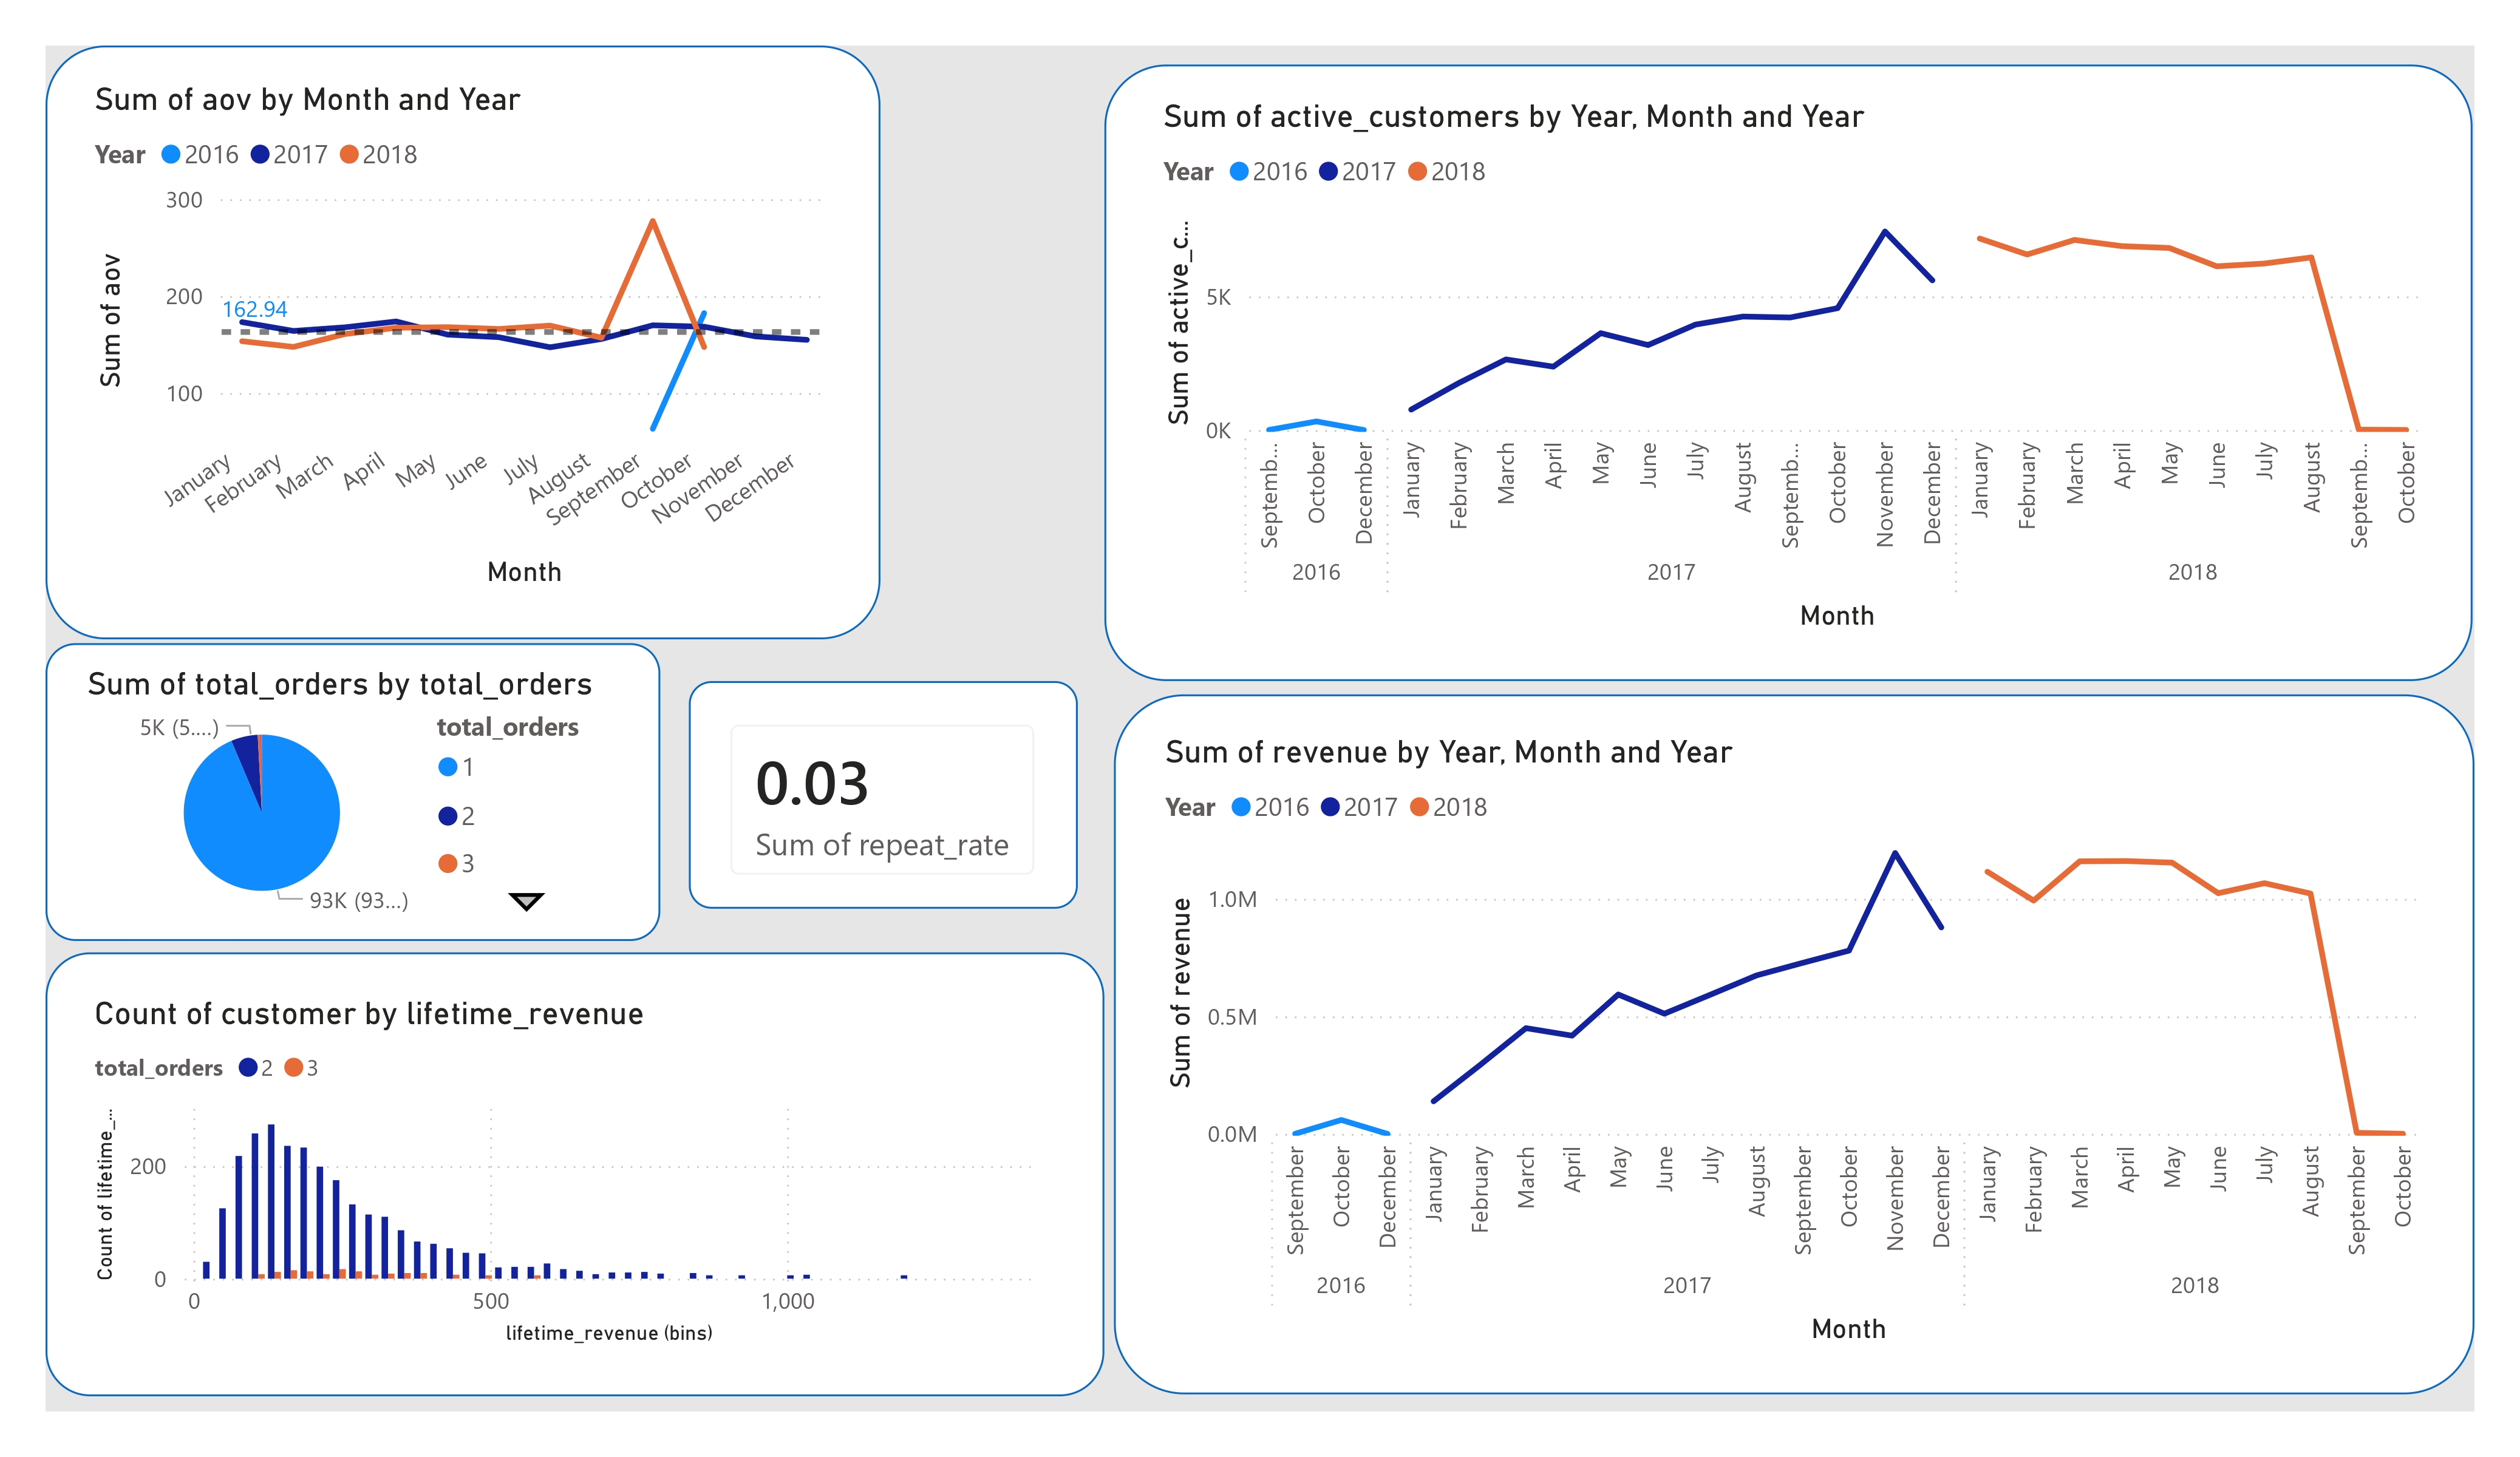

What the dashboard file says about the page in this screenshot:
{"tool":"powerbi","page":{"name":"Executive Overview","canvas":[1280,720],"ordinal":0},"visuals":[{"type":"shape","box":[338.7,335,204.9,120.2],"z":0,"group":"g3"},{"type":"shape","box":[563.2,342.3,716.6,369.3],"z":0,"group":"g1"},{"type":"shape","box":[0,477.9,558.3,234.4],"z":0},{"type":"shape","box":[0,0,440.2,312.9],"z":1000,"group":"g2"},{"type":"shape","box":[-0.4,315.1,324.1,157.1],"z":1000},{"type":"shape","box":[558.3,9.8,720.2,325.2],"z":2000},{"type":"cardVisual","fields":{"Data":["Sum(analytics v_repeat_purhase_rate.repeat_rate)"]},"box":[348.5,346,184.1,103.1],"z":2000,"group":"g3"},{"type":"lineChart","fields":{"Y":["Sum(analytics v_monthly_revenue_rate.revenue)"],"Category":["analytics v_monthly_revenue_rate.order_month.Variation.Date Hierarchy.Year","analytics v_monthly_revenue_rate.order_month.Variation.Date Hierarchy.Month"],"Series":["analytics v_monthly_revenue_rate.order_month.Variation.Date Hierarchy.Year"]},"box":[585,362.8,672.4,326.4],"z":2000,"group":"g1"},{"type":"lineChart","fields":{"Y":["Sum(analytics v_unique_customer_count_per_month.active_customers)"],"Category":["analytics v_unique_customer_count_per_month.order_month.Variation.Date Hierarchy.Year","analytics v_unique_customer_count_per_month.order_month.Variation.Date Hierarchy.Month"],"Series":["analytics v_unique_customer_count_per_month.order_month.Variation.Date Hierarchy.Year"]},"box":[584.1,27,674.9,285.9],"z":3000},{"type":"lineChart","fields":{"Y":["Sum(analytics v_average_order_value.aov)"],"Category":["analytics v_average_order_value.order_month.Variation.Date Hierarchy.Month"],"Series":["analytics v_average_order_value.order_month.Variation.Date Hierarchy.Year"]},"box":[20.7,17.8,396.1,271.7],"z":4000,"group":"g2"},{"type":"pieChart","fields":{"Category":["analytics v_customer_lifetime_value.total_orders"],"Y":["Sum(analytics v_customer_lifetime_value.total_orders)"]},"box":[16.9,326.3,287,137.3],"z":4000},{"type":"clusteredColumnChart","title":"Count of customer by lifetime_revenue","fields":{"Category":["analytics v_customer_lifetime_value.lifetime_revenue (bins)"],"Y":["CountNonNull(analytics v_customer_lifetime_value.lifetime_revenue)"],"Series":["analytics v_customer_lifetime_value.total_orders"]},"box":[20.9,500,516.6,190.2],"z":5000},{"type":"group","id":"g1","title":"Group 1","box":[563.2,342.3,716.6,369.3],"z":6000},{"type":"group","id":"g2","title":"Group 2","box":[0,0,440.5,312.9],"z":7000},{"type":"group","id":"g3","title":"Group 3","box":[338.7,335,204.9,120.2],"z":8000}]}

Visuals, with their boxes on the page's 1280x720 design canvas (x1, y1, x2, y2). These are canvas units, not pixel positions in the 2520x1457 screenshot, which may show the page scaled, cropped or inside an application window:
shape: box(339, 335, 544, 455)
shape: box(563, 342, 1280, 712)
shape: box(0, 478, 558, 712)
shape: box(0, 0, 440, 313)
shape: box(0, 315, 324, 472)
shape: box(558, 10, 1278, 335)
cardVisual - Sum(analytics v_repeat_purhase_rate.repeat_rate): box(348, 346, 533, 449)
lineChart - Sum(analytics v_monthly_revenue_rate.revenue) x analytics v_monthly_revenue_rate.order_month.Variation.Date Hierarchy.Year: box(585, 363, 1257, 689)
lineChart - Sum(analytics v_unique_customer_count_per_month.active_customers) x analytics v_unique_customer_count_per_month.order_month.Variation.Date Hierarchy.Year: box(584, 27, 1259, 313)
lineChart - Sum(analytics v_average_order_value.aov) x analytics v_average_order_value.order_month.Variation.Date Hierarchy.Month: box(21, 18, 417, 290)
pieChart - analytics v_customer_lifetime_value.total_orders x Sum(analytics v_customer_lifetime_value.total_orders): box(17, 326, 304, 464)
"Count of customer by lifetime_revenue" clusteredColumnChart: box(21, 500, 538, 690)
"Group 1" group: box(563, 342, 1280, 712)
"Group 2" group: box(0, 0, 440, 313)
"Group 3" group: box(339, 335, 544, 455)
